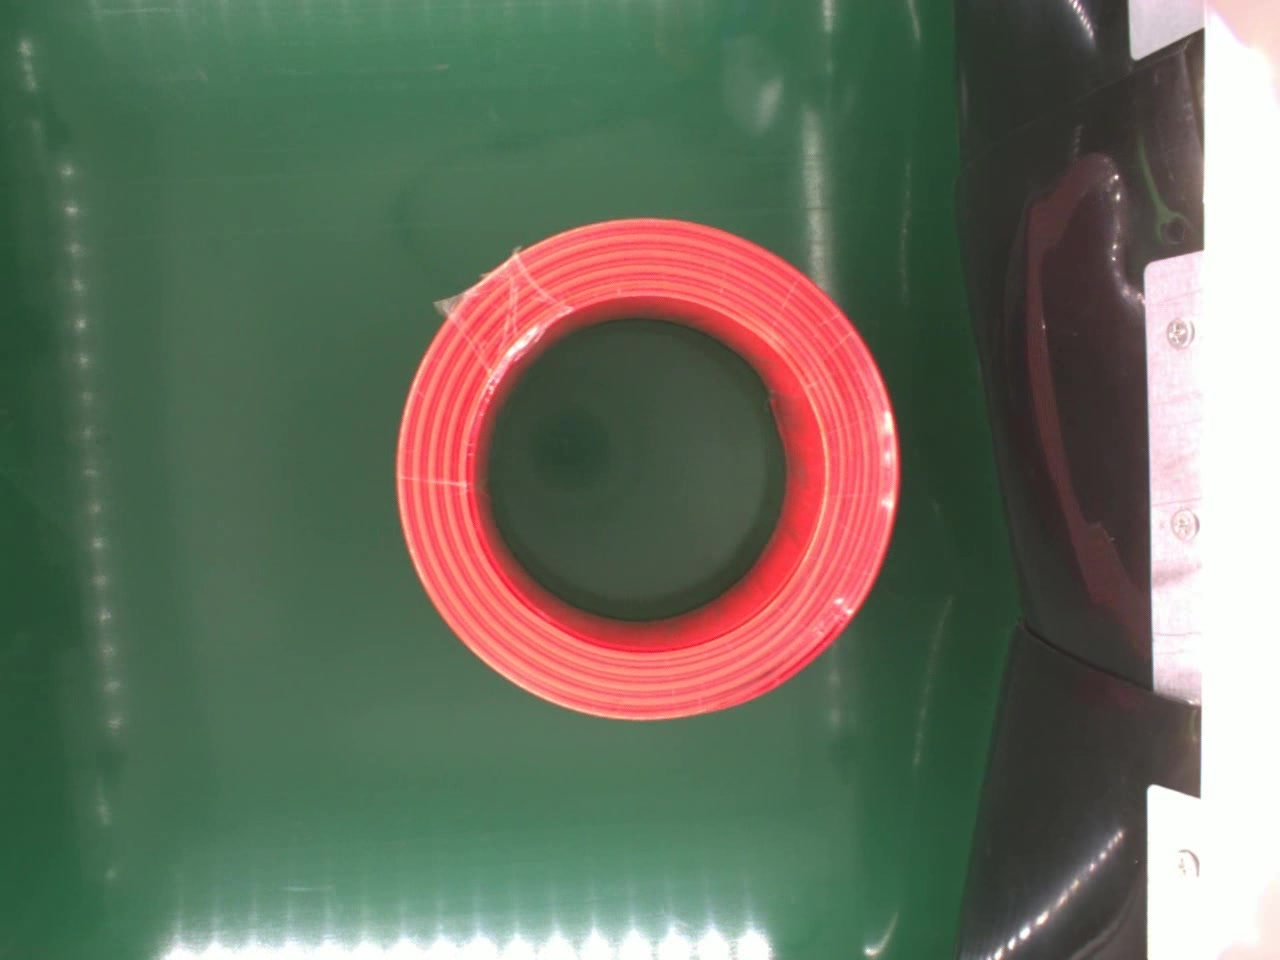red: (389, 213, 904, 725)
